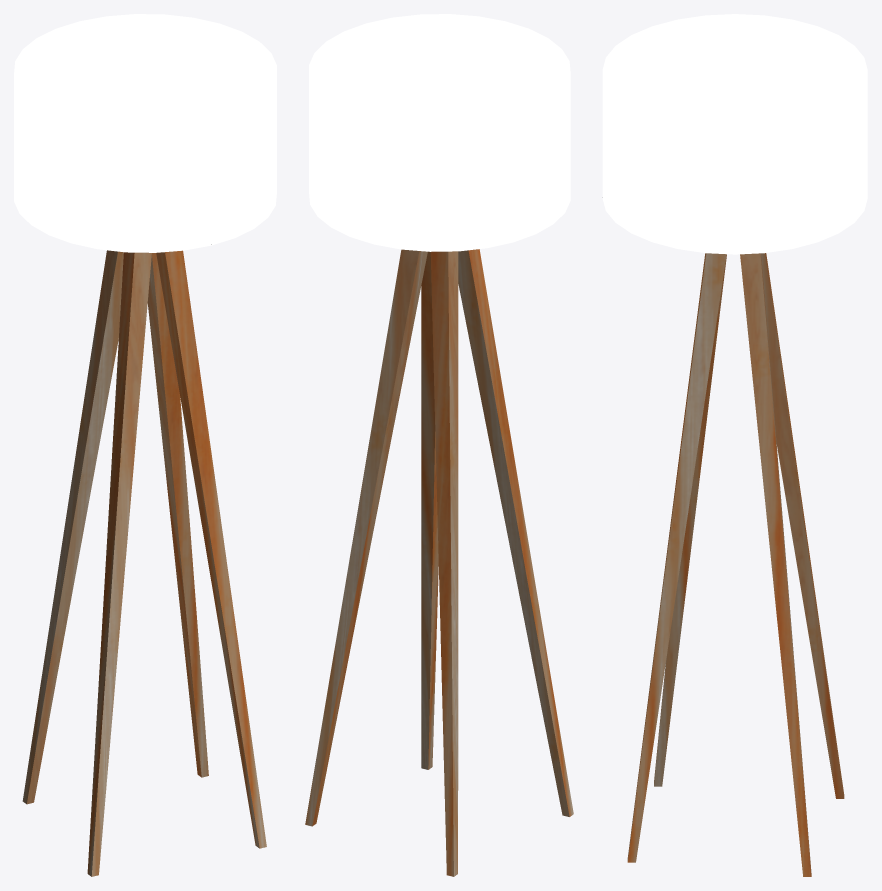
File: lights_floor_light.fbx
3 views of the same model, side by side, from view 1: azimuth 30°, elevation 25°; view 2: azimuth 150°, elevation 25°; view 3: azimuth 270°, elevation 25° (orthographic).
Parts seen in each view (by area): view 1: Circle.005; view 2: Circle.005; view 3: Circle.005.
Part boxes in pixels (<box>): Circle.005: <box>14,14,276,876</box>; Circle.005: <box>305,14,573,876</box>; Circle.005: <box>602,14,867,876</box>.
Size of the model in its own units: 58.22 by 184 by 58.29.
